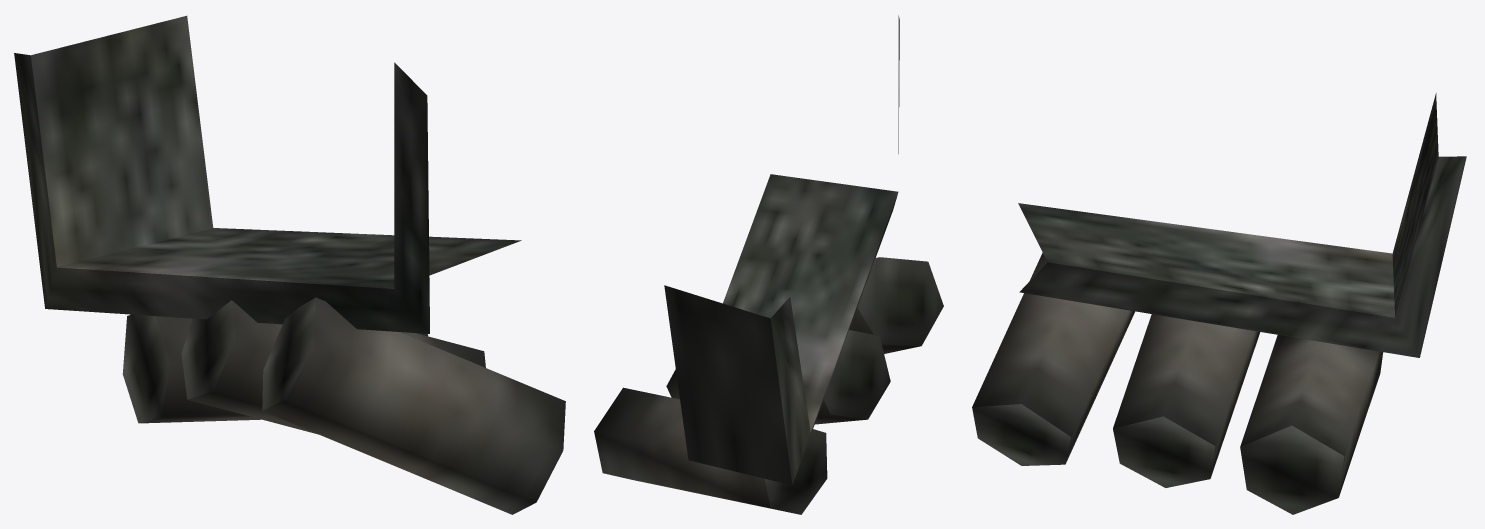
File: prop_tiger_part_1.glb
3 renders of one model, left to right at view 1: azimuth 30°, elevation 25°; view 2: azimuth 150°, elevation 25°; view 3: azimuth 270°, elevation 25°, orthographic. The views are drawn at different scales.
Size of the model in its own units: 8.7 by 14.05 by 14.76.
Materials: 1 (1 with a texture image).
